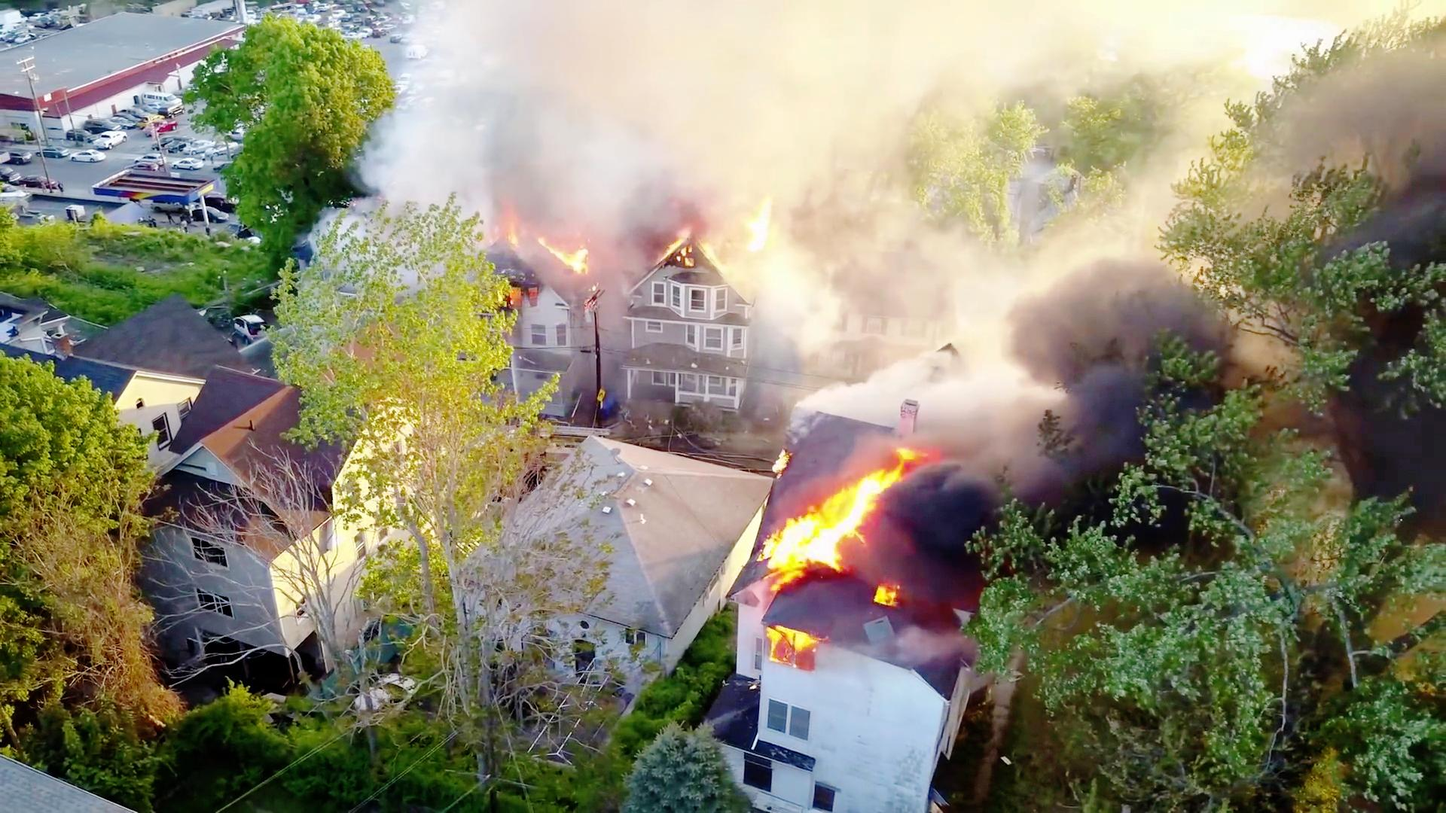fire: (764, 473, 870, 574)
smoke: (1027, 243, 1162, 446), (906, 461, 996, 544)
